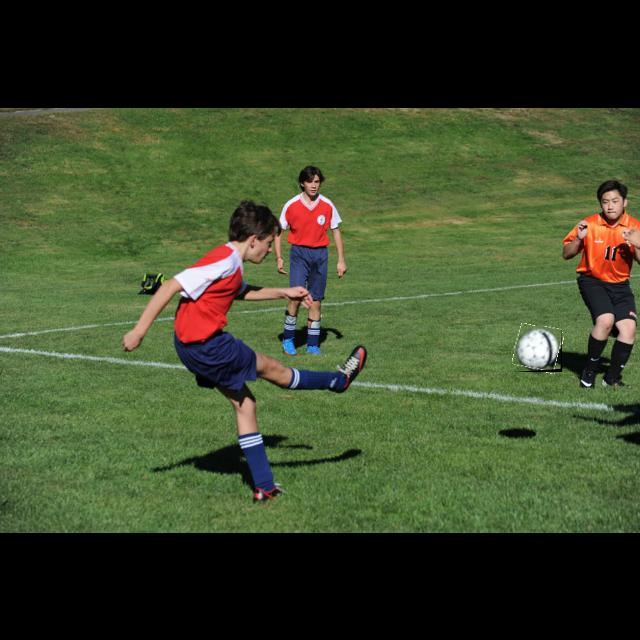Football: (514, 326, 562, 372)
